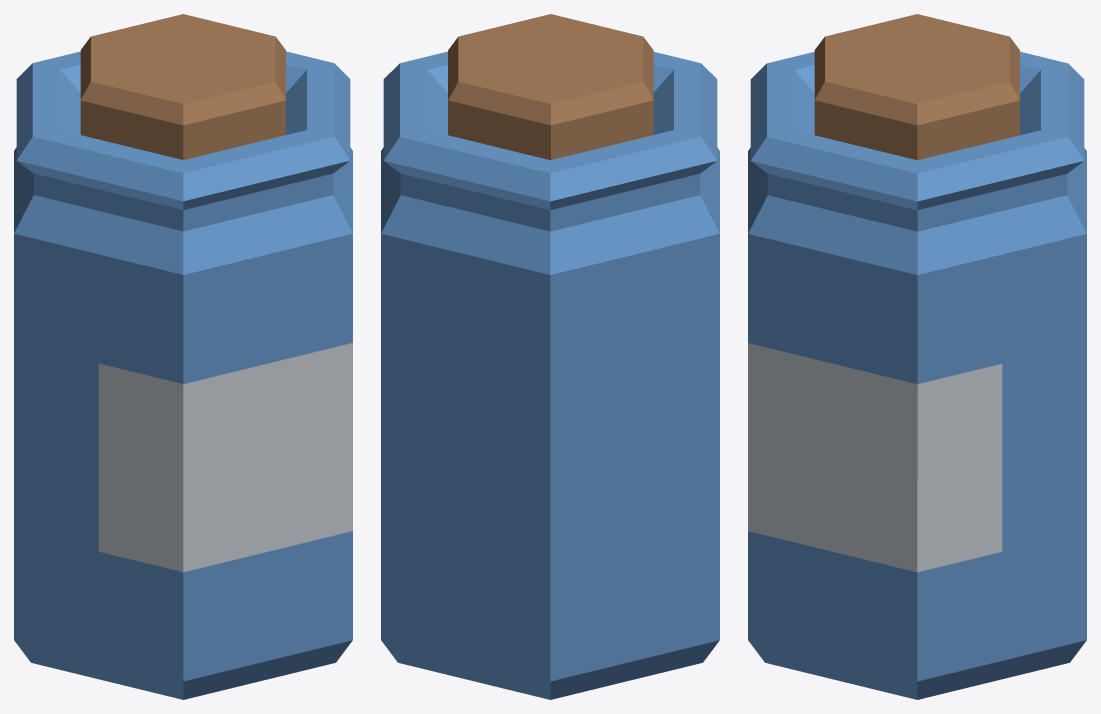
The model's file is Blue_Potion_2(Label).fbx.
The picture shows the model from 3 angles, left to right: view 1: azimuth 30°, elevation 25°; view 2: azimuth 150°, elevation 25°; view 3: azimuth 270°, elevation 25°; orthographic projection.
Parts seen in each view (by area): view 1: Blue_Potion_2(Label); view 2: Blue_Potion_2(Label); view 3: Blue_Potion_2(Label).
Part boxes in pixels (bbox=[...]): Blue_Potion_2(Label): bbox=[14, 14, 352, 699]; Blue_Potion_2(Label): bbox=[381, 14, 719, 699]; Blue_Potion_2(Label): bbox=[748, 14, 1086, 699].
Size of the model in its own units: 23.02 by 36.77 by 19.94.
